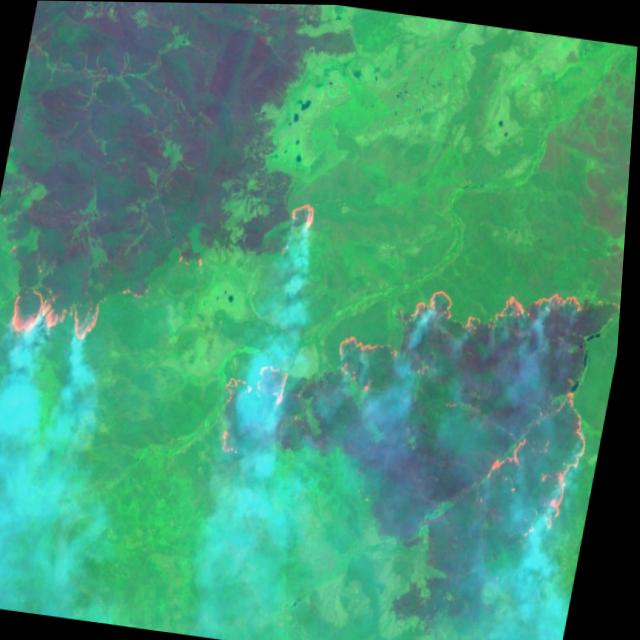fire: (329, 249, 608, 432), (208, 335, 318, 474), (498, 390, 602, 532), (1, 259, 125, 352), (267, 183, 337, 261)
